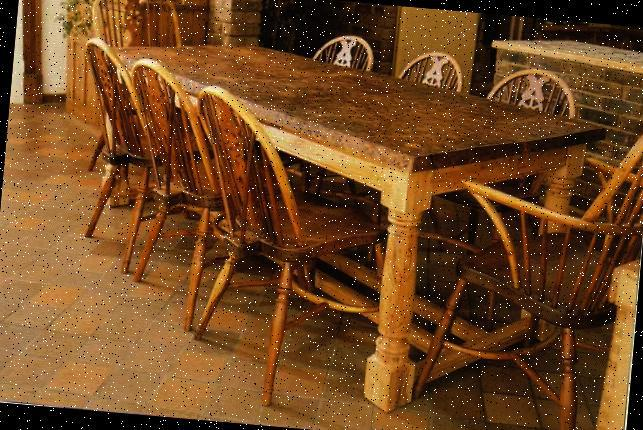Mesa: (70, 35, 622, 419)
Silla: (169, 78, 419, 416), (400, 98, 642, 429), (103, 47, 304, 343), (56, 29, 224, 285), (331, 18, 472, 273), (443, 50, 583, 297), (59, 0, 227, 192), (249, 21, 386, 214)
